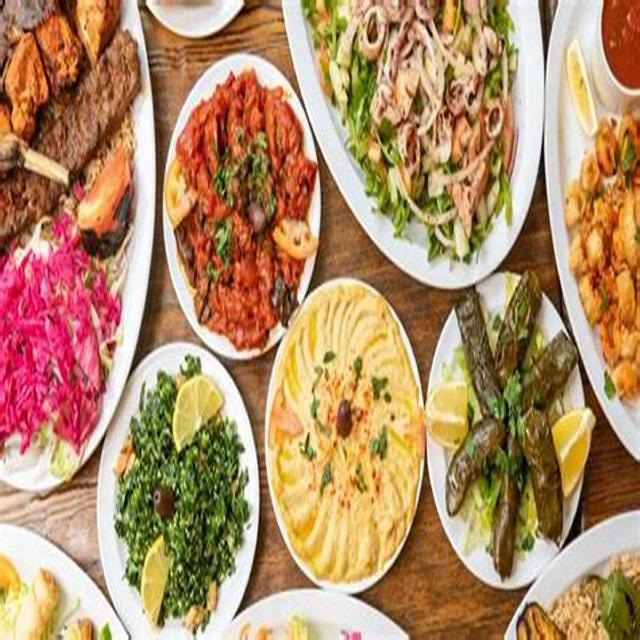do chien: (281, 314, 405, 566)
do nuong: (445, 291, 569, 550), (29, 8, 94, 496)
do xao: (356, 26, 510, 230), (185, 102, 289, 312)
rau thap cam: (115, 387, 237, 583)
